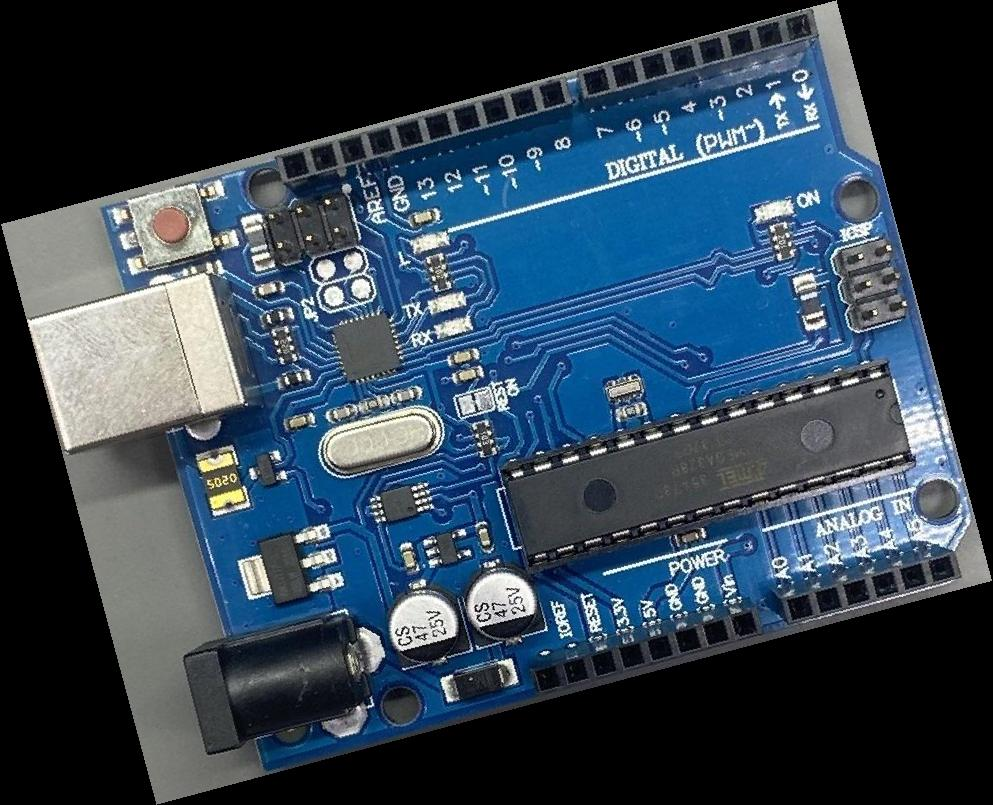ATmega328 chip: (501, 359, 914, 572)
Arduino board: (28, 9, 973, 771)
USB: (29, 273, 266, 456)
capacitor: (461, 562, 549, 647), (385, 585, 471, 671)
pins: (279, 76, 572, 198), (578, 9, 820, 113), (528, 596, 763, 695), (771, 542, 962, 625)
resistor: (766, 111, 799, 370), (269, 218, 302, 472), (469, 310, 501, 569), (422, 145, 454, 400)
spur: (639, 218, 652, 448), (396, 165, 403, 397), (546, 303, 553, 534)
